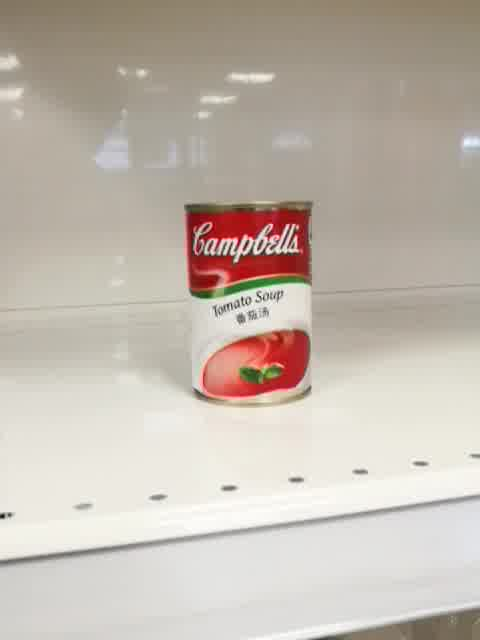tomatosoup: (179, 196, 315, 412)
